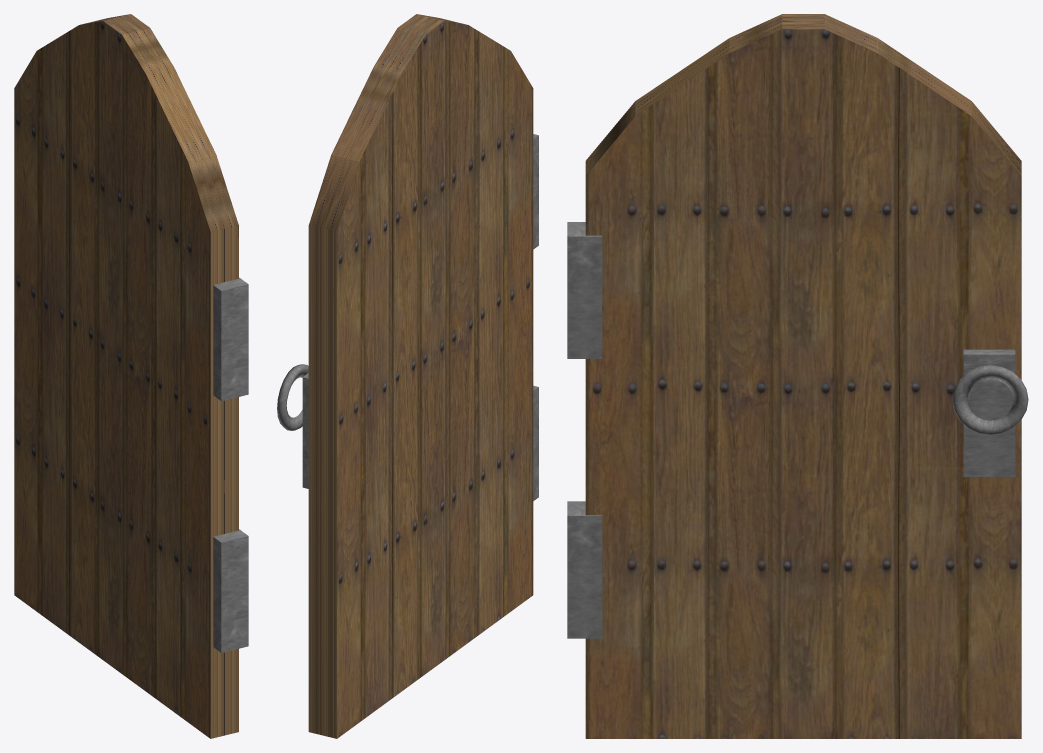
Rendered from door.fbx.
3 renders of one model, left to right at view 1: azimuth 30°, elevation 25°; view 2: azimuth 150°, elevation 25°; view 3: azimuth 270°, elevation 25°, orthographic. The views are drawn at different scales.
Parts seen in each view (by area): view 1: polySurface93; view 2: polySurface93; view 3: polySurface93.
Part boxes in pixels (x1,y1,x2,y2): polySurface93: [14, 14, 248, 738]; polySurface93: [277, 14, 538, 738]; polySurface93: [567, 14, 1028, 738].
Size of the model in its own units: 0.8911 by 9.42 by 5.55.
Materials: 2 (2 with a texture image).
